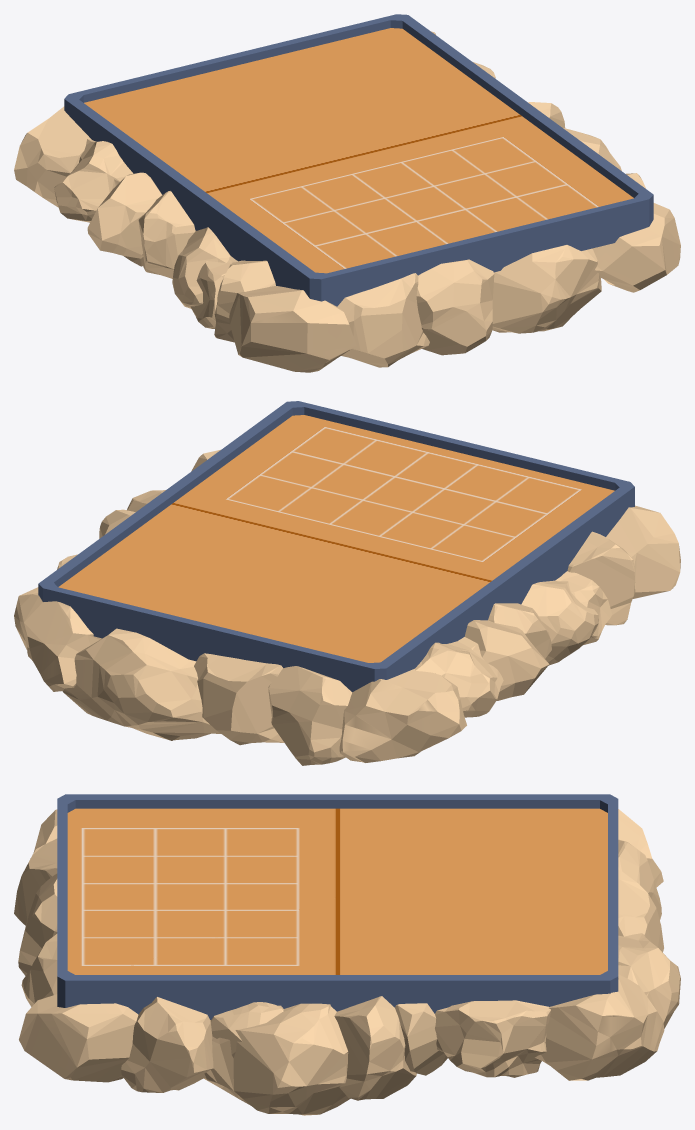
File: battle_arenafull (1).fbx
3 views of the same model, one above another, from view 1: azimuth 30°, elevation 25°; view 2: azimuth 150°, elevation 25°; view 3: azimuth 270°, elevation 25° (orthographic). The views are drawn at different scales.
Parts seen in each view (by area): view 1: polySurface1, pPlane20; view 2: polySurface1, pPlane20; view 3: polySurface1, pPlane20.
Part boxes in pixels (x1,y1,x2,y2): polySurface1: [14, 14, 680, 372]; pPlane20: [84, 28, 633, 273]; polySurface1: [14, 401, 680, 765]; pPlane20: [58, 415, 614, 662]; polySurface1: [14, 794, 680, 1115]; pPlane20: [67, 808, 607, 974].
Bounding box in the file's own units: 8.79 × 2.09 × 9.66.
